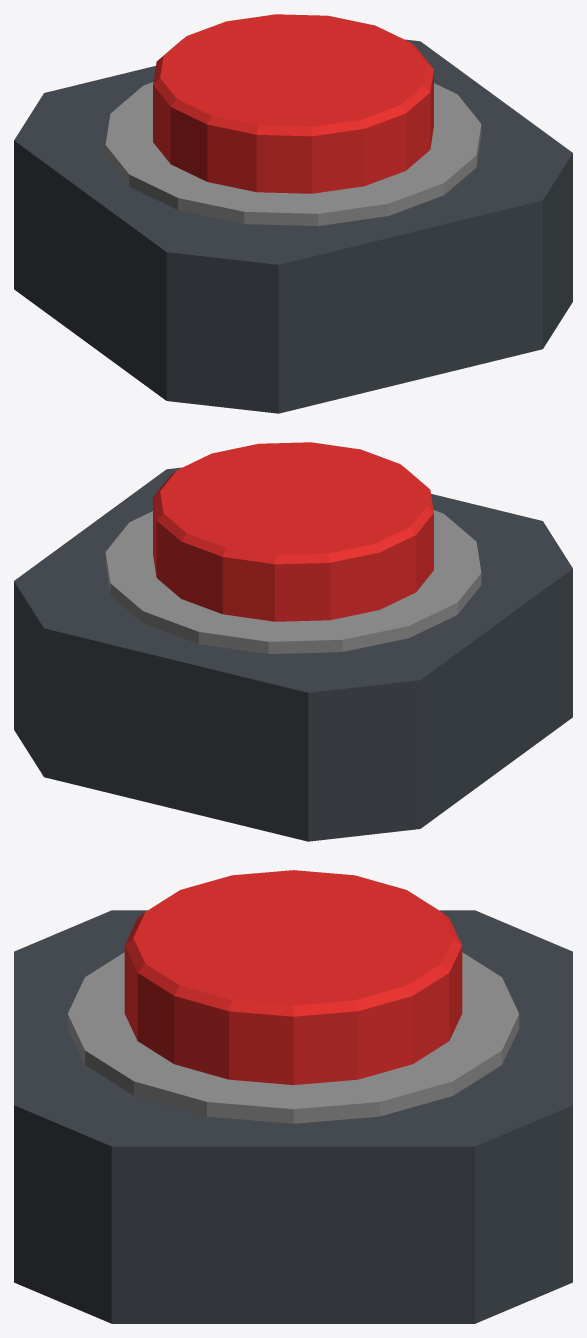
The model's file is button.fbx.
The picture shows the model from 3 angles, top to bottom: view 1: azimuth 30°, elevation 25°; view 2: azimuth 150°, elevation 25°; view 3: azimuth 270°, elevation 25°; orthographic projection. The views are drawn at different scales.
Visible parts, largest first — view 1: Cube; view 2: Cube; view 3: Cube.
Boxes of the visible parts, left/top/right/bottom form: Cube: left=14, top=14, right=572, bottom=413; Cube: left=14, top=442, right=572, bottom=841; Cube: left=14, top=870, right=572, bottom=1323.
Bounding box in the file's own units: 80 × 42.31 × 80.
